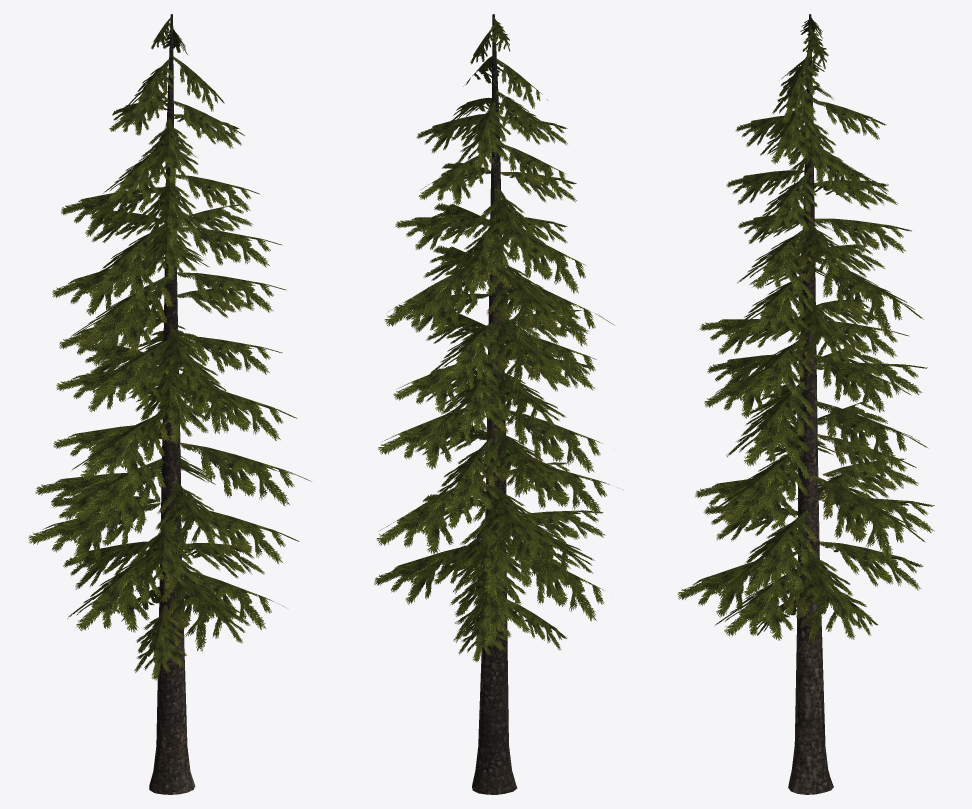
Rendered from pine_tree_n_2_4.obj.
The picture shows the model from 3 angles, left to right: view 1: azimuth 30°, elevation 25°; view 2: azimuth 150°, elevation 25°; view 3: azimuth 270°, elevation 25°; orthographic projection.
Visible parts, largest first — view 1: pine_tree_n_2_4_branches, pine_tree_n_2_4; view 2: pine_tree_n_2_4_branches, pine_tree_n_2_4; view 3: pine_tree_n_2_4_branches, pine_tree_n_2_4.
Boxes of the visible parts, <box> form: pine_tree_n_2_4_branches: <box>28,17,311,680</box>; pine_tree_n_2_4: <box>149,14,195,794</box>; pine_tree_n_2_4_branches: <box>374,17,614,662</box>; pine_tree_n_2_4: <box>472,14,517,794</box>; pine_tree_n_2_4_branches: <box>677,17,934,643</box>; pine_tree_n_2_4: <box>788,14,833,794</box>.
Bounding box in the file's own units: 1.63 × 4.59 × 1.54.
